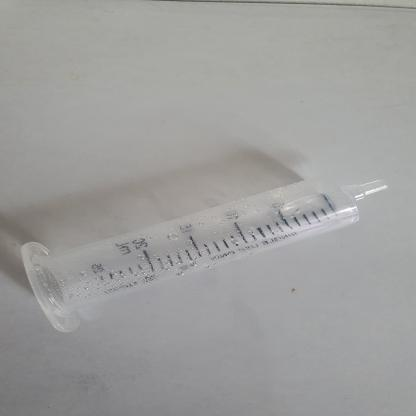wet: (19, 174, 384, 332)
